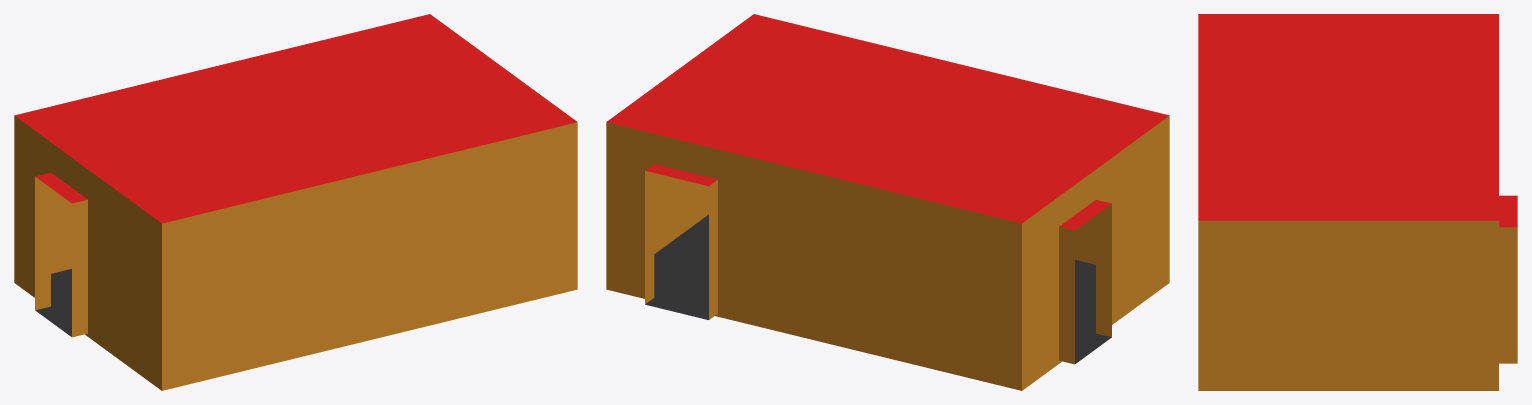
Rendered from Floor2_BedroomDustinMesh.gltf.
3 renders of one model, left to right at view 1: azimuth 30°, elevation 25°; view 2: azimuth 150°, elevation 25°; view 3: azimuth 270°, elevation 25°, orthographic.
Parts seen in each view (by area): view 1: Floor2_BedroomDustinMesh; view 2: Floor2_BedroomDustinMesh; view 3: Floor2_BedroomDustinMesh.
Boxes of the visible parts, <box> form: Floor2_BedroomDustinMesh: <box>14,14,577,390</box>; Floor2_BedroomDustinMesh: <box>606,14,1169,390</box>; Floor2_BedroomDustinMesh: <box>1198,14,1517,390</box>.
Bounding box in the file's own units: 13.5 × 5 × 8.5.
